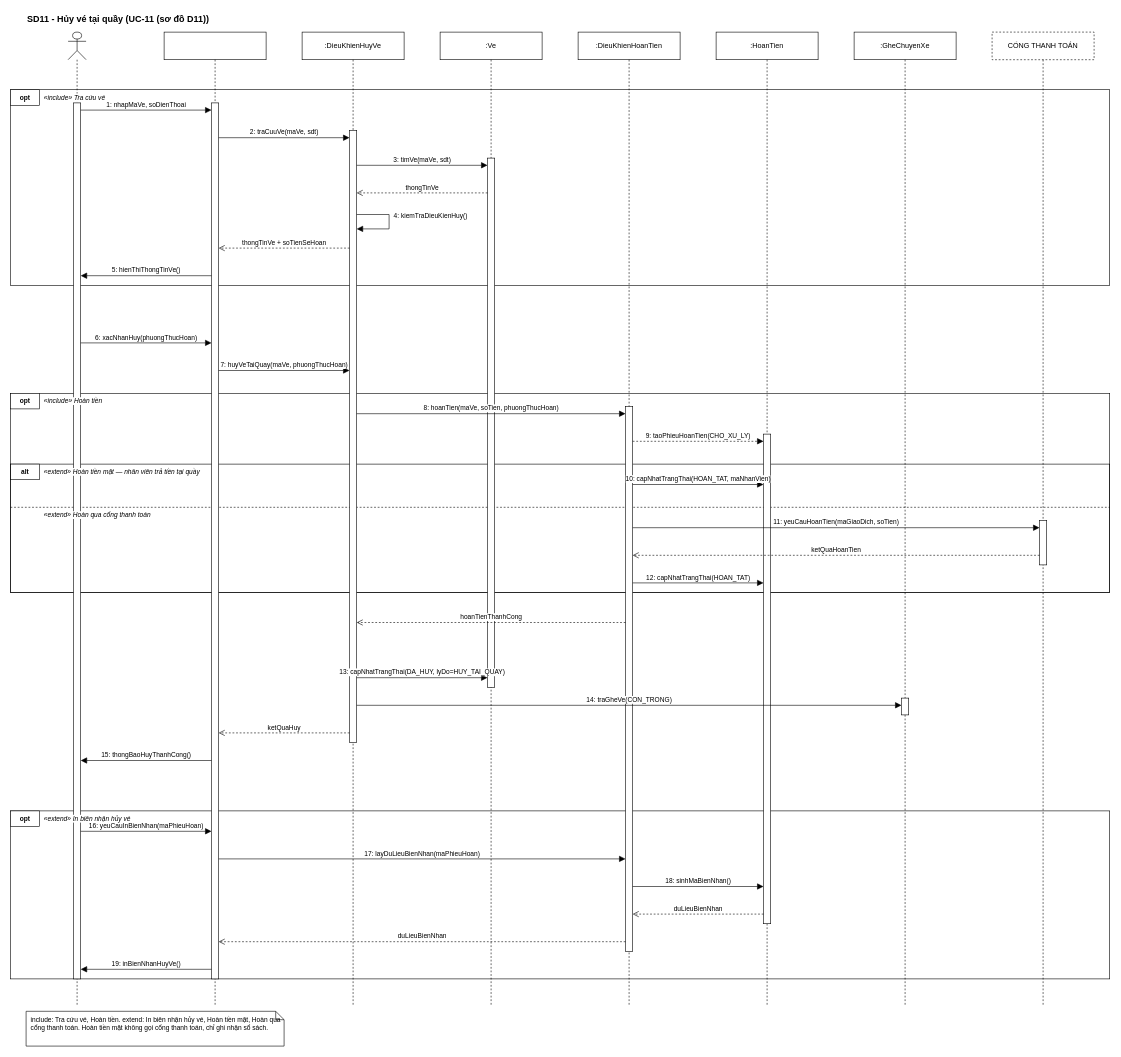
This 1121x1057 diagram has some shape labels left out. Here are the shapes that lost their labels. From the top down, the box of each, then its label:
(68, 32, 86, 60): Nhân viên bán vé
(164, 32, 266, 60): :GiaoDienHuyVeTaiQuay
